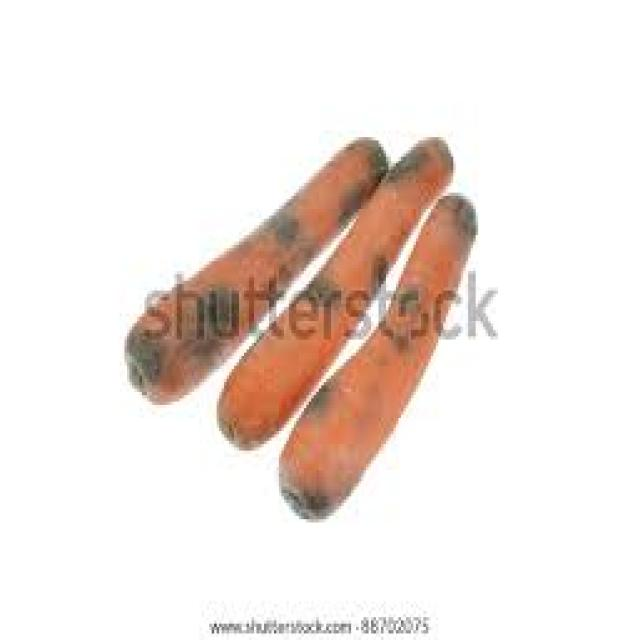Stale_Carrot: (133, 127, 393, 399), (281, 193, 472, 530)
